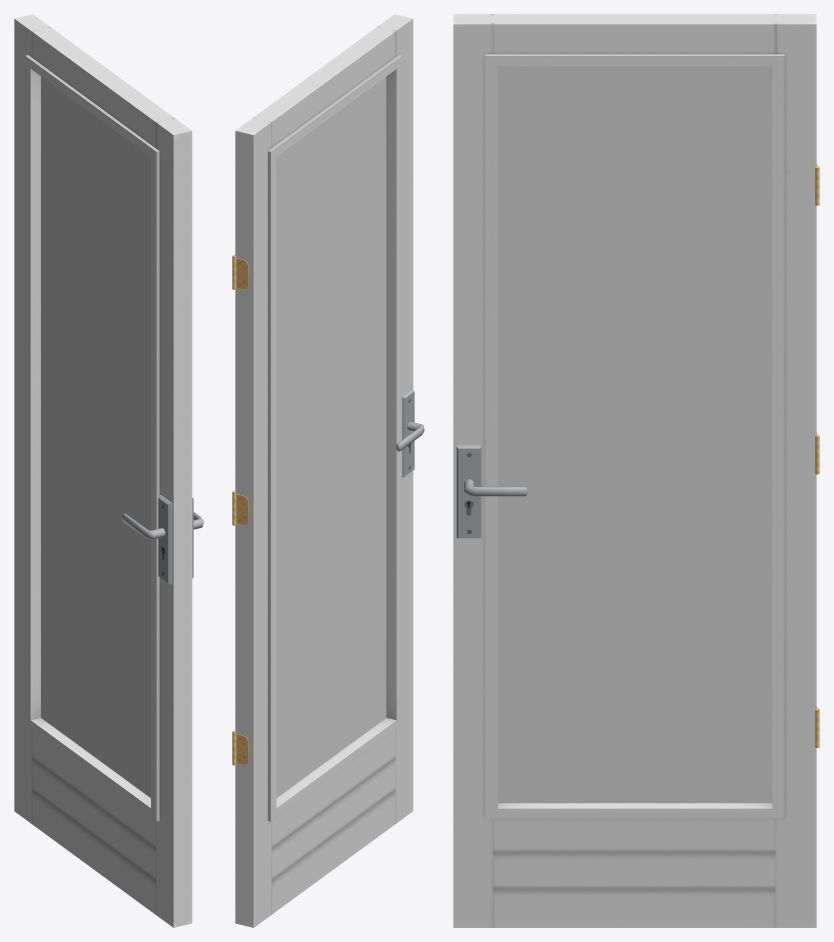
Rendered from DoorBalcony.fbx.
3 renders of one model, left to right at view 1: azimuth 30°, elevation 25°; view 2: azimuth 150°, elevation 25°; view 3: azimuth 270°, elevation 25°, orthographic. The views are drawn at different scales.
Visible parts, largest first — view 1: FrameWindows.003, FrameWindows.018, FrameWindows.004; view 2: FrameWindows.003, FrameWindows.018; view 3: FrameWindows.018, FrameWindows.003, FrameWindows.004.
Part boxes in pixels (x1,y1,x2,y2): FrameWindows.003: (14, 14, 193, 927); FrameWindows.018: (41, 76, 150, 797); FrameWindows.004: (122, 512, 203, 539); FrameWindows.003: (232, 14, 414, 927); FrameWindows.018: (276, 77, 386, 797); FrameWindows.018: (497, 66, 772, 802); FrameWindows.003: (453, 14, 819, 927); FrameWindows.004: (464, 479, 527, 496).
Bounding box in the file's own units: 0.1708 × 2.23 × 0.8195.
